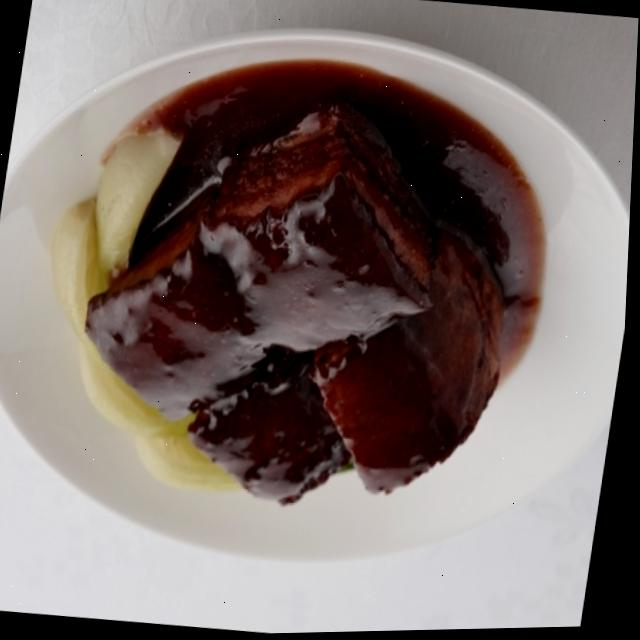牛肉菜式: (0, 0, 640, 617)
